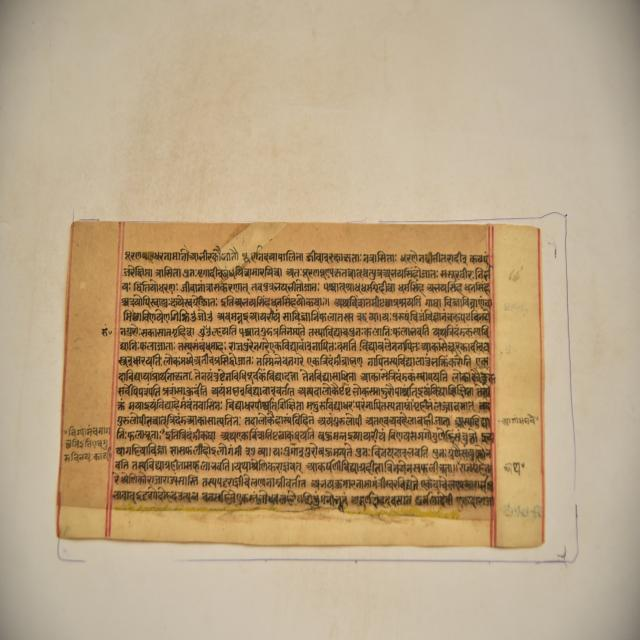text_paragraph: (56, 218, 543, 548)
